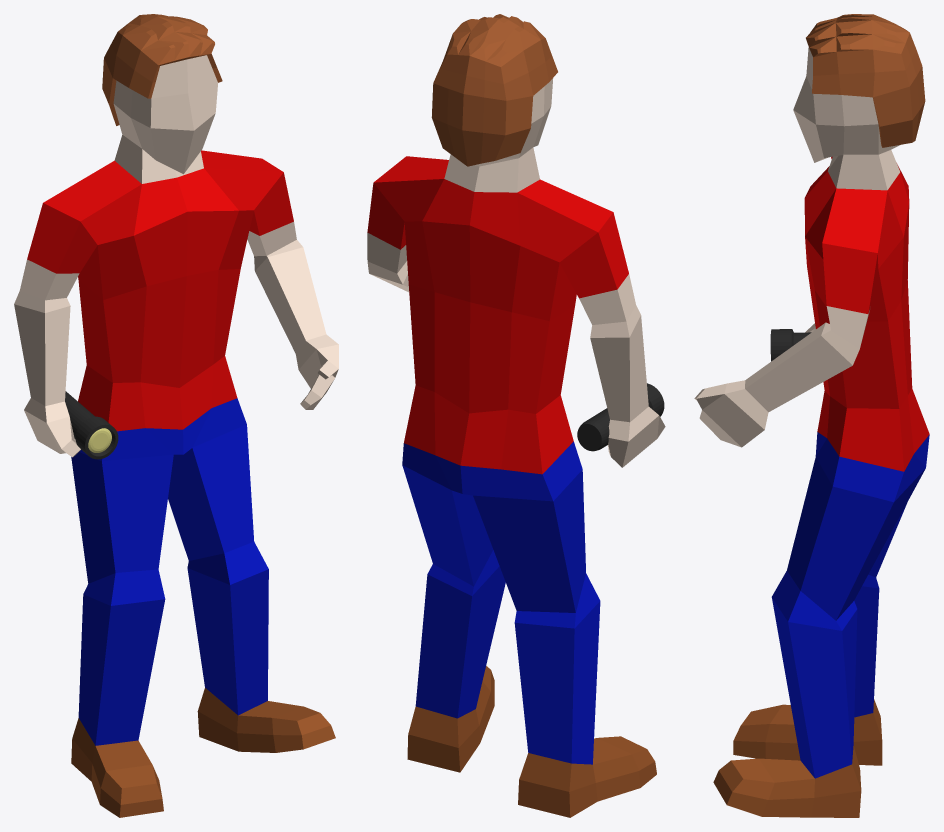
The model's file is Human_grabbing_9.fbx.
The picture shows the model from 3 angles, left to right: view 1: azimuth 30°, elevation 25°; view 2: azimuth 150°, elevation 25°; view 3: azimuth 270°, elevation 25°; orthographic projection. The views are drawn at different scales.
Visible parts, largest first — view 1: Person.003, Cylinder.002; view 2: Person.003, Cylinder.002; view 3: Person.003, Cylinder.002.
Boxes of the visible parts, <box> form: Person.003: <box>14,14,338,817</box>; Cylinder.002: <box>65,391,118,459</box>; Person.003: <box>367,14,665,817</box>; Cylinder.002: <box>577,383,664,451</box>; Person.003: <box>694,14,929,817</box>; Cylinder.002: <box>770,329,811,361</box>.
Bounding box in the file's own units: 0.5897 × 1.58 × 0.4378.
